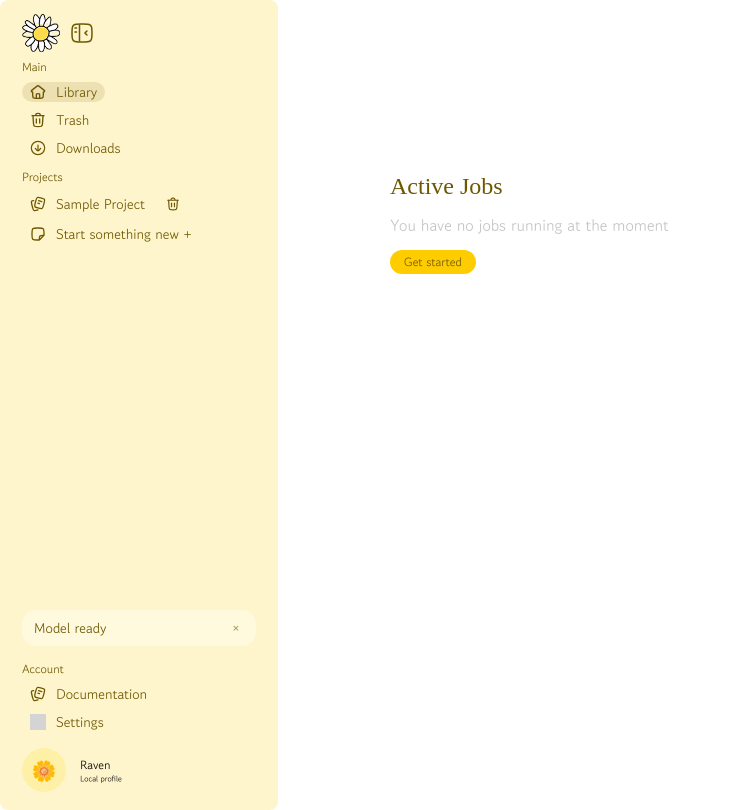
it: Create project flow › shows a visible error UI on failure
Click the button "Get started" at (433, 262), box 390,250 -> 476,274
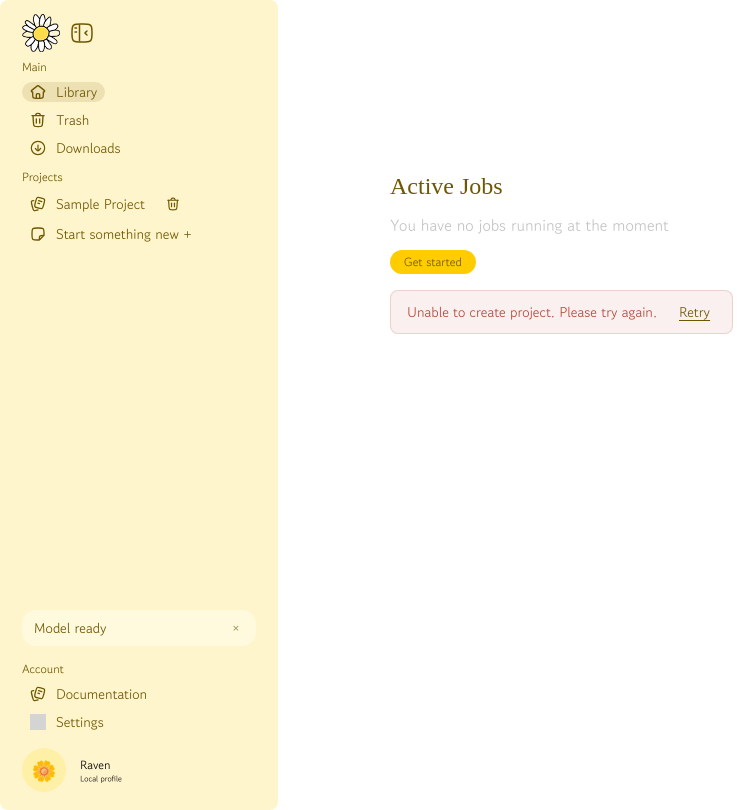
Now the text "Unable to create project. Please try again." is shown, box 407,304 -> 657,320
Now the button "Retry" is shown, box 673,303 -> 716,321
